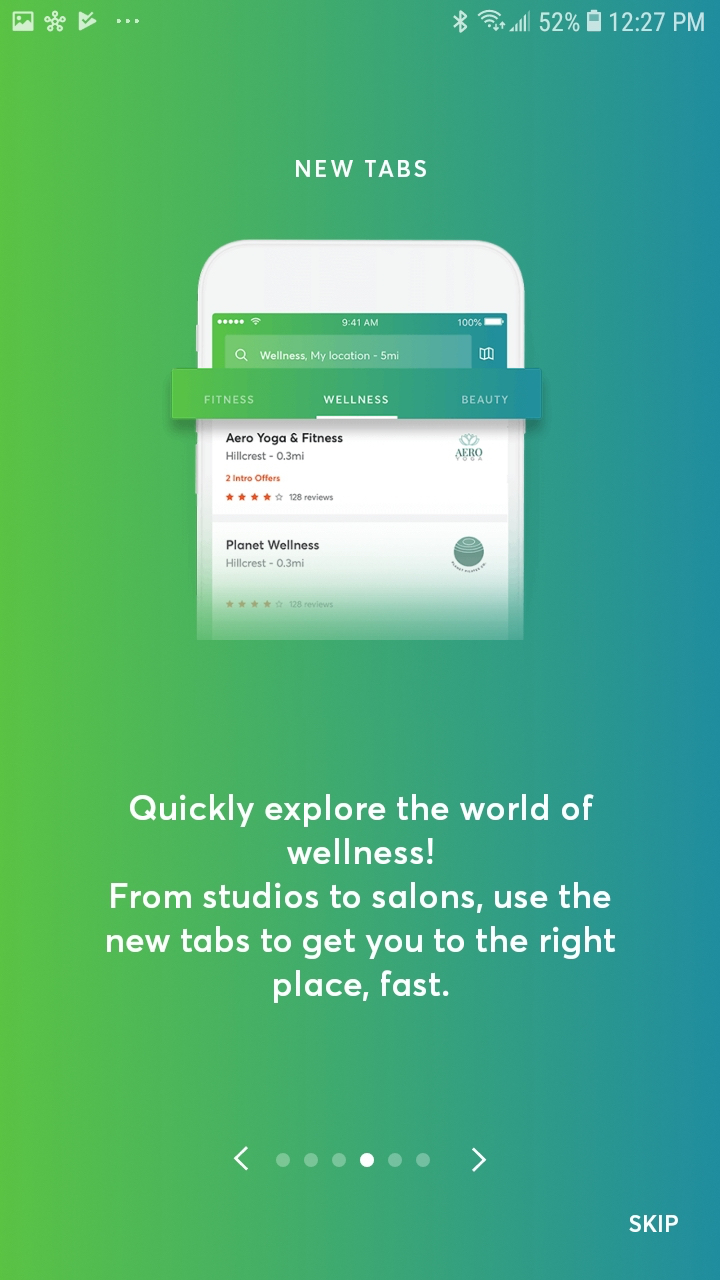Icon: (233, 1145, 250, 1172), (471, 1147, 487, 1173)
Image: (171, 239, 543, 642)
PageIndicator: (276, 1151, 432, 1168)
Text: (107, 793, 616, 1004), (295, 160, 427, 179), (629, 1214, 679, 1233)
UpperTaskBar: (1, 1, 720, 35)
